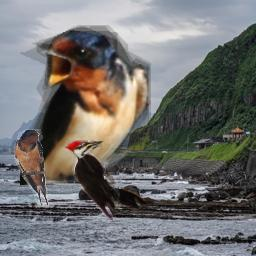Swallow: (20, 25, 151, 185), (14, 129, 49, 207)
Woodpecker: (63, 140, 157, 222)
